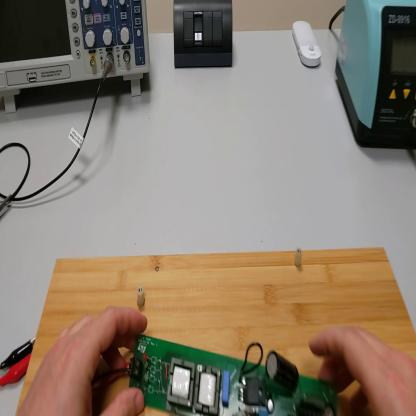hand: (16, 304, 150, 414), (309, 331, 416, 415)
high voltage board: (93, 337, 339, 416)
oscilloscope: (2, 1, 152, 113)
oscilloscope probe tip: (2, 193, 13, 218)
welder station: (336, 2, 416, 151)
working area: (16, 249, 416, 416)
